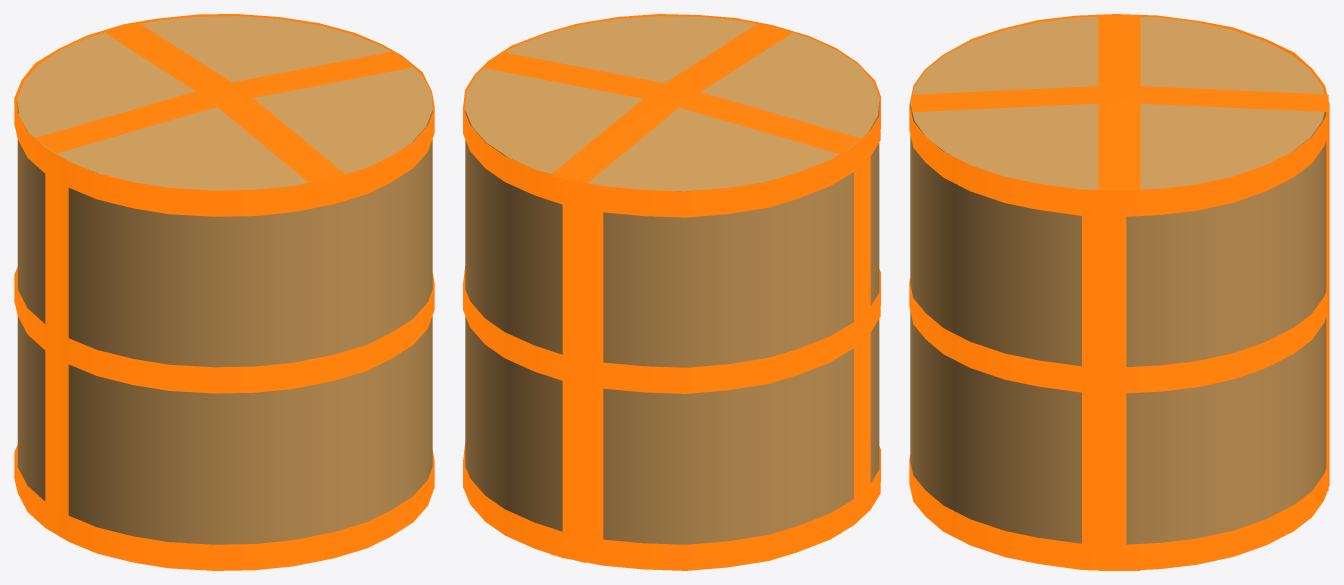
Rendered from alien_crate.glb.
3 views of the same model, side by side, from view 1: azimuth 30°, elevation 25°; view 2: azimuth 150°, elevation 25°; view 3: azimuth 270°, elevation 25° (orthographic).
Visible parts, largest first — view 1: Alien_Crate; view 2: Alien_Crate; view 3: Alien_Crate.
Boxes of the visible parts, x1,y1,x2,y2 form: Alien_Crate: (14,14,434,570); Alien_Crate: (463,14,880,570); Alien_Crate: (909,14,1329,570).
Bounding box in the file's own units: 8.03 × 8.4 × 8.08.
